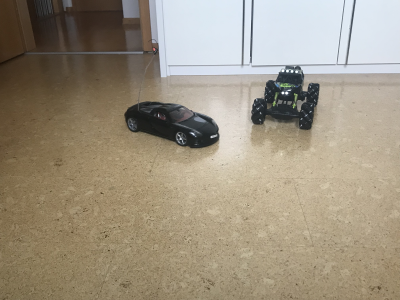remote control car: (248, 60, 322, 130)
